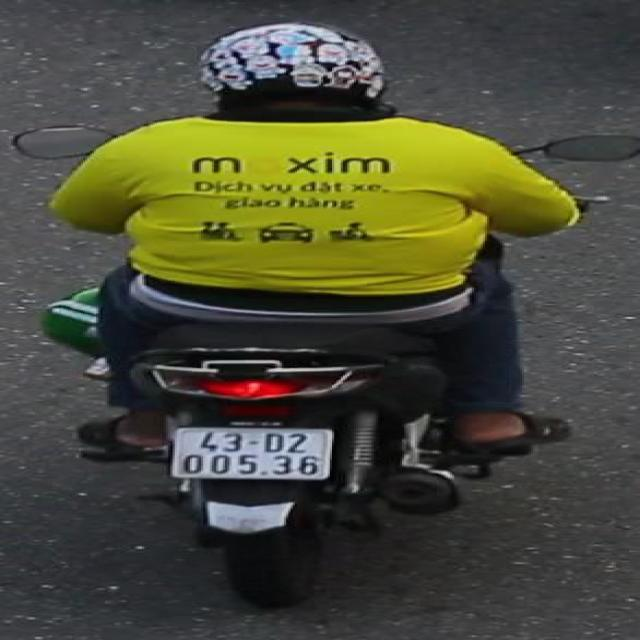LP: (162, 422, 340, 487)
helmet: (191, 15, 418, 131)
